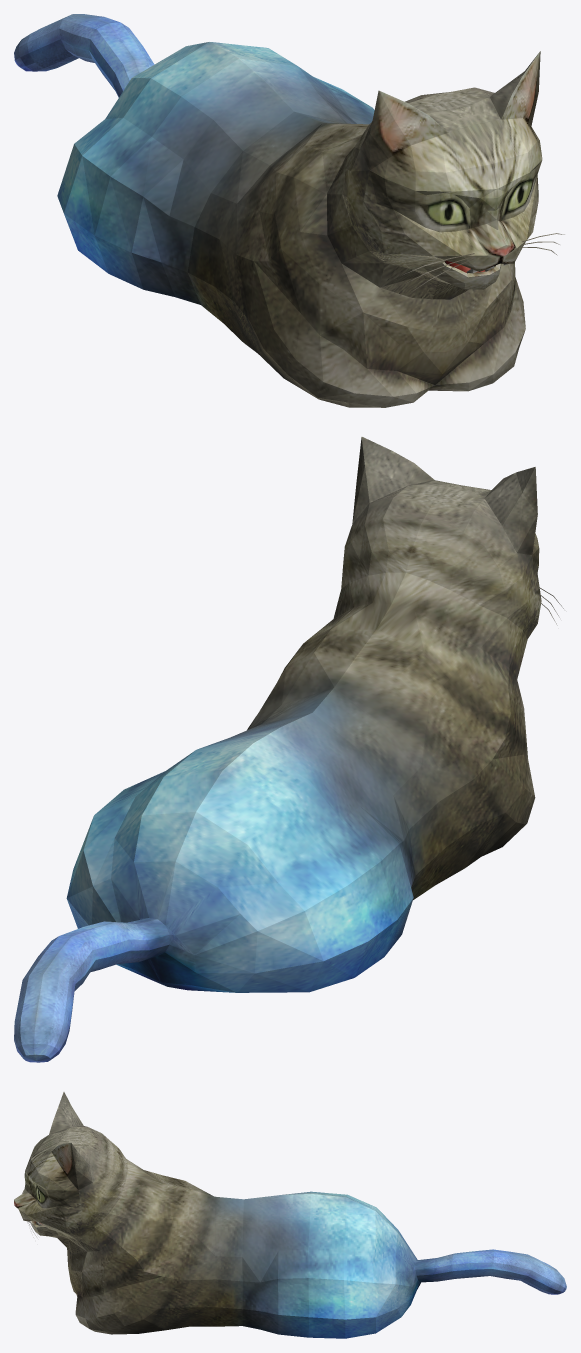
The model's file is Blynx.fbx.
3 views of the same model, one above another, from view 1: azimuth 30°, elevation 25°; view 2: azimuth 150°, elevation 25°; view 3: azimuth 270°, elevation 25° (orthographic). The views are drawn at different scales.
Visible parts, largest first — view 1: Body; view 2: Body; view 3: Body.
Boxes of the visible parts, x1,y1,x2,y2 form: Body: (14, 14, 564, 407); Body: (14, 437, 563, 1062); Body: (14, 1092, 566, 1338).
Size of the model in its own units: 575 by 634 by 1590.
1 material, 1 textured.
